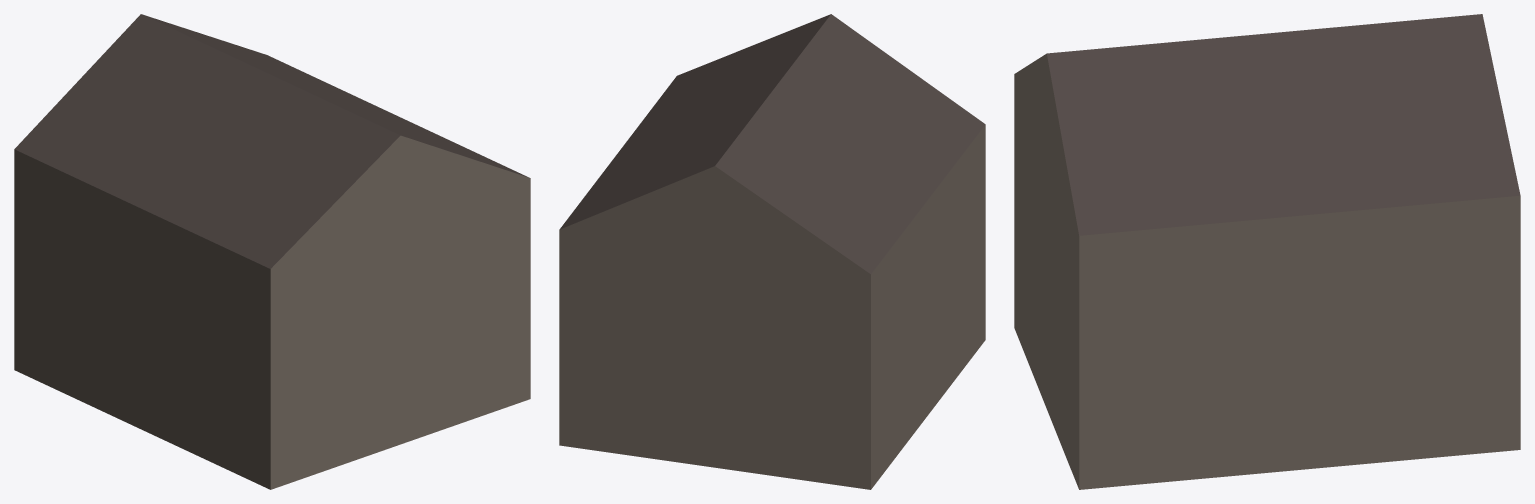
The picture shows the model from 3 angles, left to right: view 1: azimuth 30°, elevation 25°; view 2: azimuth 150°, elevation 25°; view 3: azimuth 270°, elevation 25°; orthographic projection. The views are drawn at different scales.
Visible parts, largest first — view 1: HP-w1516161970; view 2: HP-w1516161970; view 3: HP-w1516161970.
Part boxes in pixels (<box>): HP-w1516161970: <box>14,14,530,489</box>; HP-w1516161970: <box>559,14,985,489</box>; HP-w1516161970: <box>1014,14,1520,489</box>.
Bounding box in the file's own units: 10.17 × 8.4 × 10.83.
